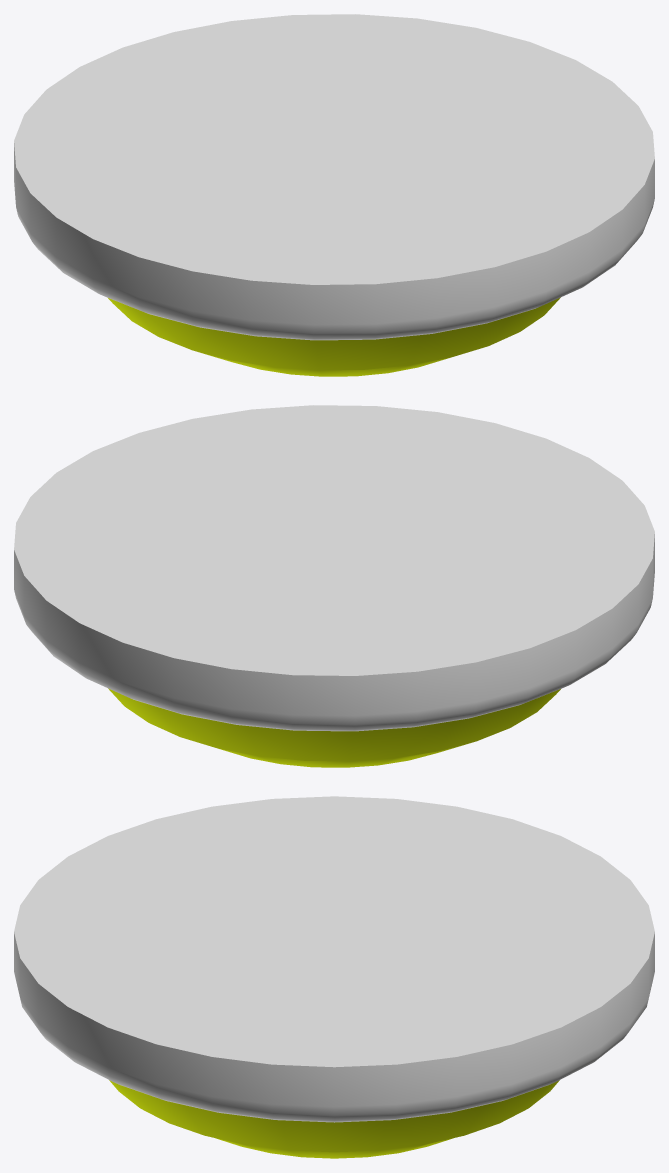
File: RoundLamp.glb
3 views of the same model, one above another, from view 1: azimuth 30°, elevation 25°; view 2: azimuth 150°, elevation 25°; view 3: azimuth 270°, elevation 25° (orthographic).
Visible parts, largest first — view 1: Cylinder; view 2: Cylinder; view 3: Cylinder.
Boxes of the visible parts, x1,y1,x2,y2 form: Cylinder: [14, 14, 654, 376]; Cylinder: [14, 405, 654, 767]; Cylinder: [14, 796, 654, 1158].
Bounding box in the file's own units: 0.2626 × 0.076 × 0.2626.
